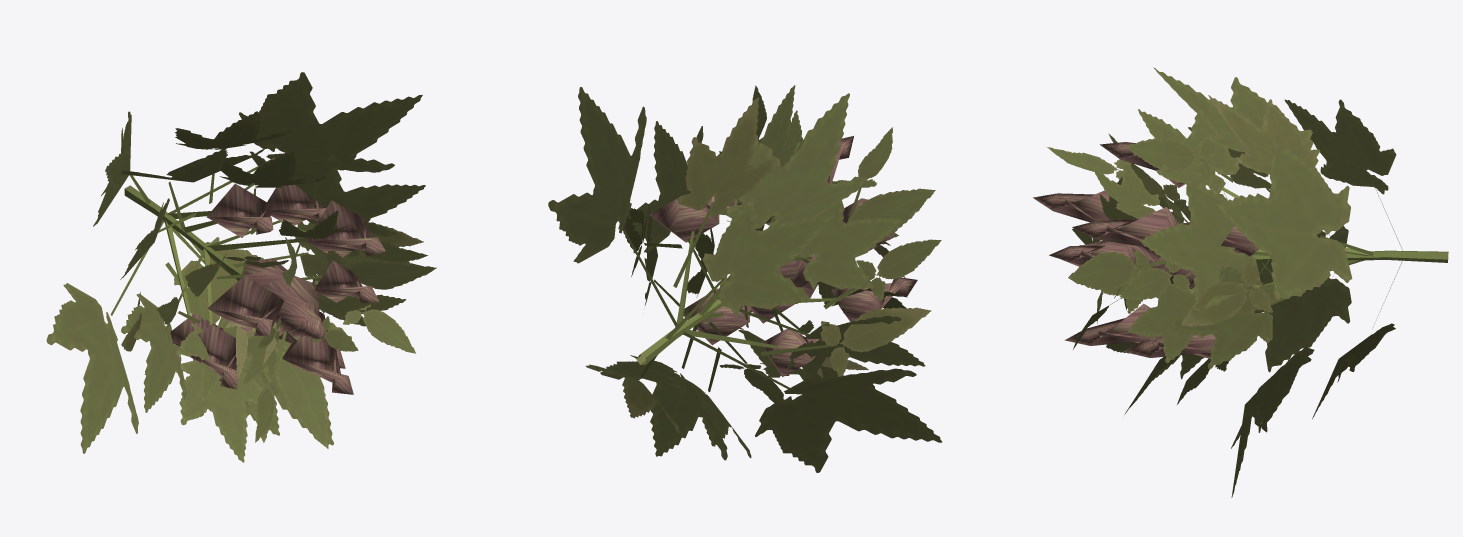
File: p_purple_afghan_ripe_c1_cards.obj
3 renders of one model, left to right at view 1: azimuth 30°, elevation 25°; view 2: azimuth 150°, elevation 25°; view 3: azimuth 270°, elevation 25°, orthographic. The views are drawn at different scales.
Bounding box in the file's own units: 1.56 × 1.46 × 1.19.
1 material, 1 textured.
